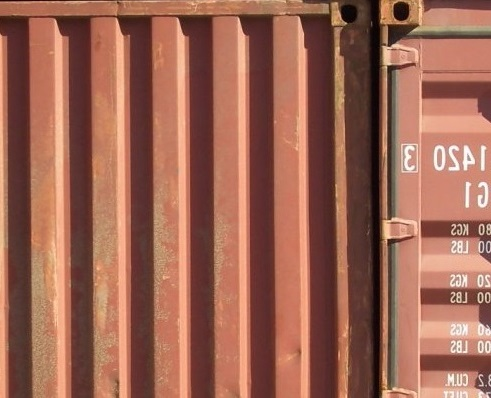container_no_door: (2, 2, 380, 394)
